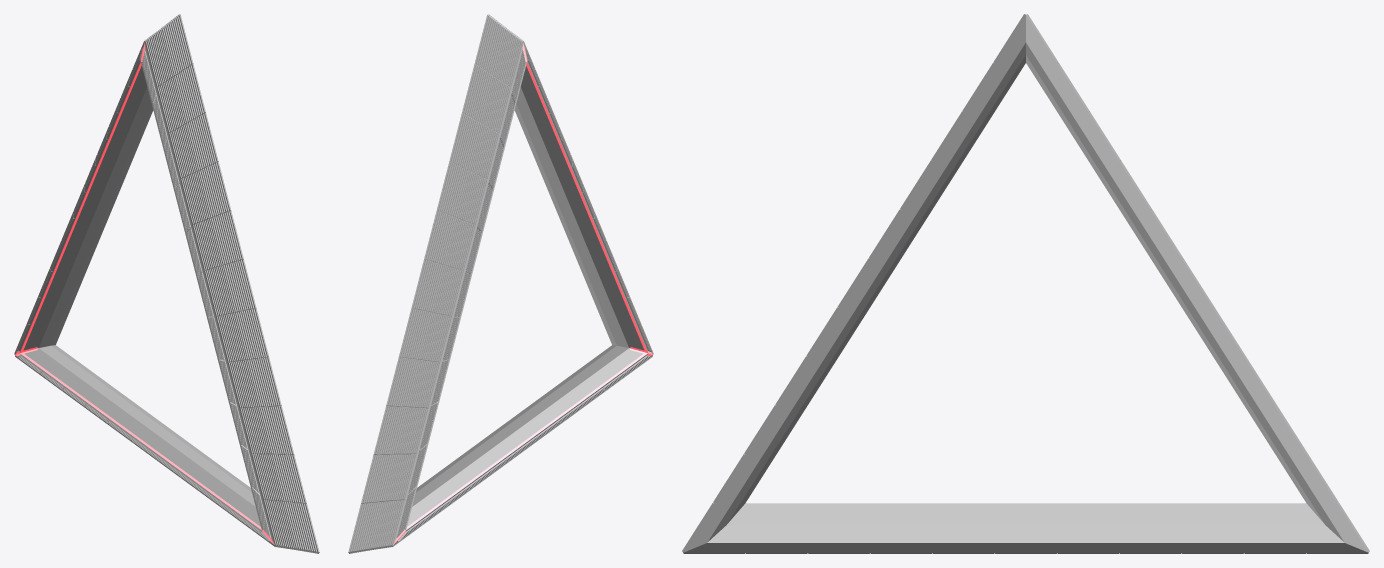
The model's file is surface-triangle.gltf.
3 renders of one model, left to right at view 1: azimuth 30°, elevation 25°; view 2: azimuth 150°, elevation 25°; view 3: azimuth 270°, elevation 25°, orthographic. The views are drawn at different scales.
Parts seen in each view (by area): view 1: Torus; view 2: Torus; view 3: Torus.
Boxes of the visible parts, box(x1,y1,x2,y2) form: Torus: box(14, 14, 319, 553); Torus: box(348, 14, 653, 553); Torus: box(682, 14, 1369, 553).
Size of the model in its own units: 1.69 by 15.9 by 18.36.
